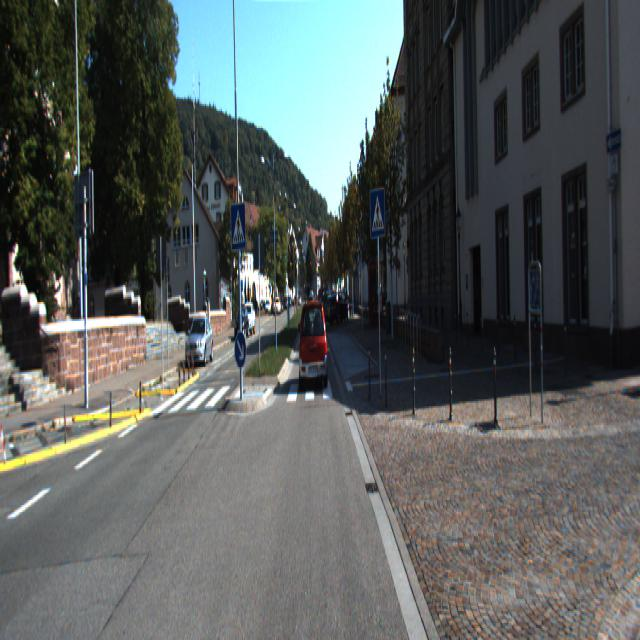Car: (300, 298, 328, 388), (183, 315, 214, 364), (328, 290, 351, 323), (241, 303, 256, 335), (235, 308, 250, 339)
